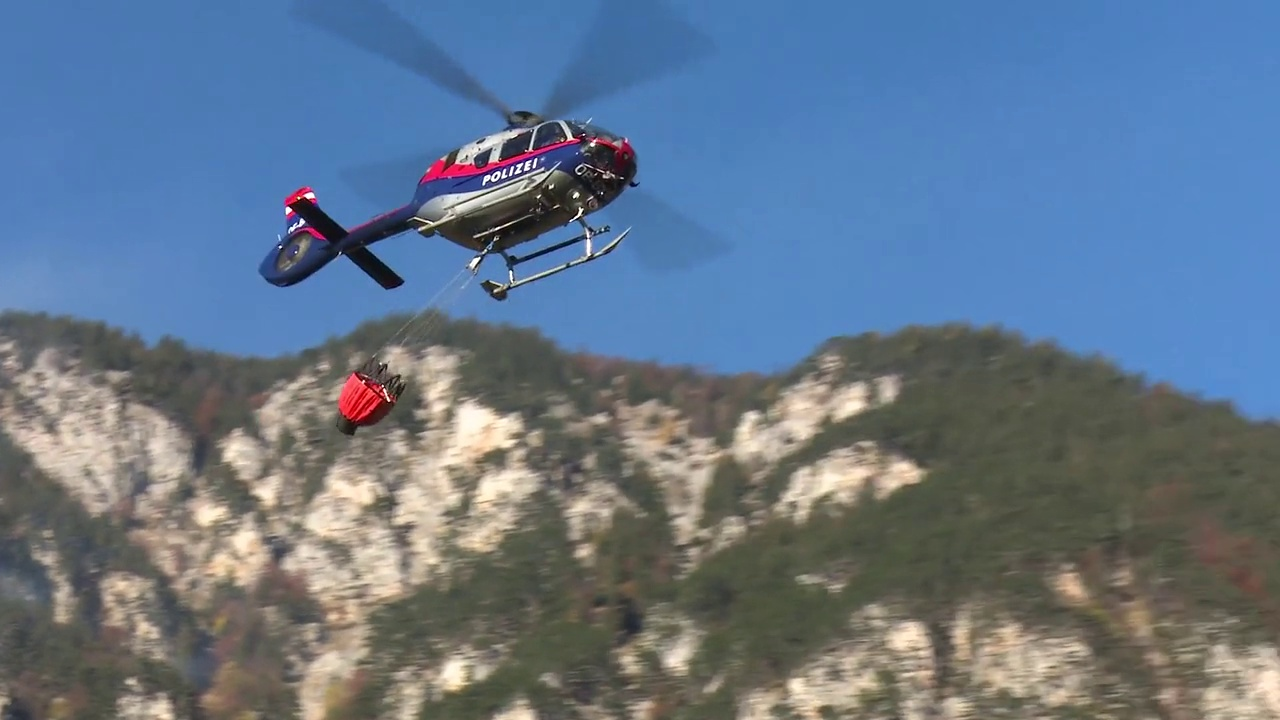heli: (256, 1, 732, 302)
